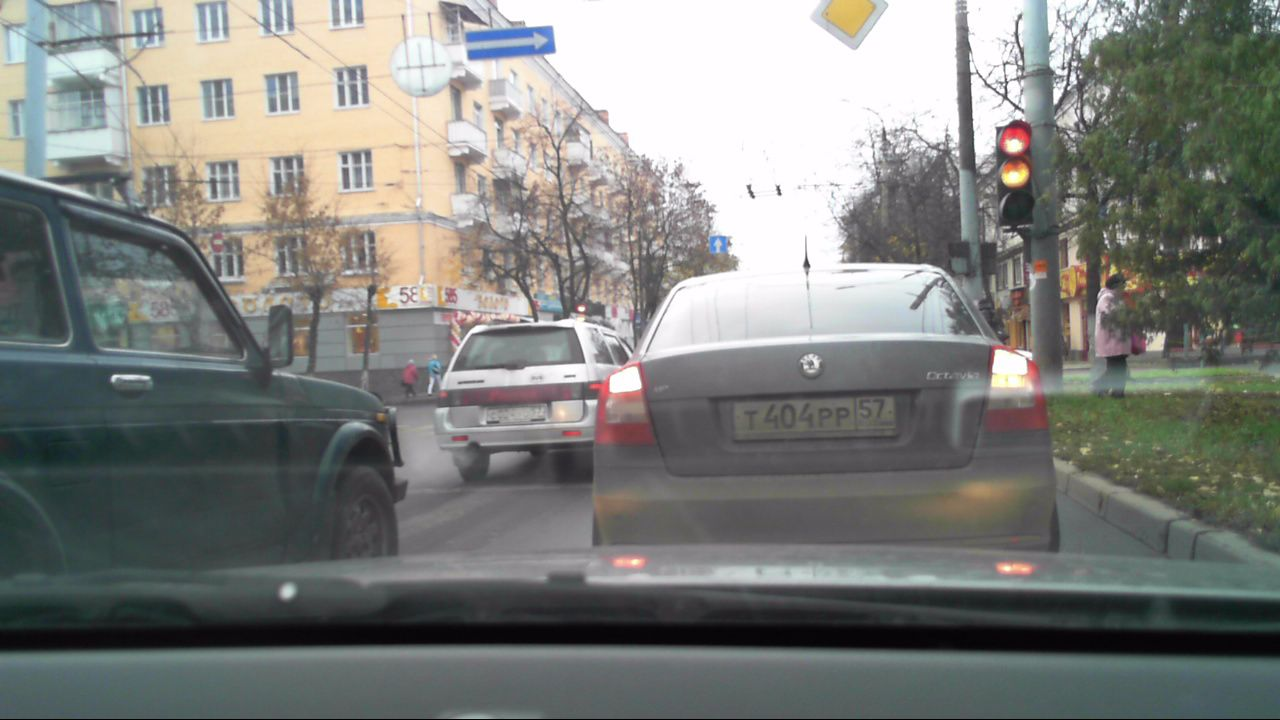One-Way Traffic: (466, 25, 554, 62)
